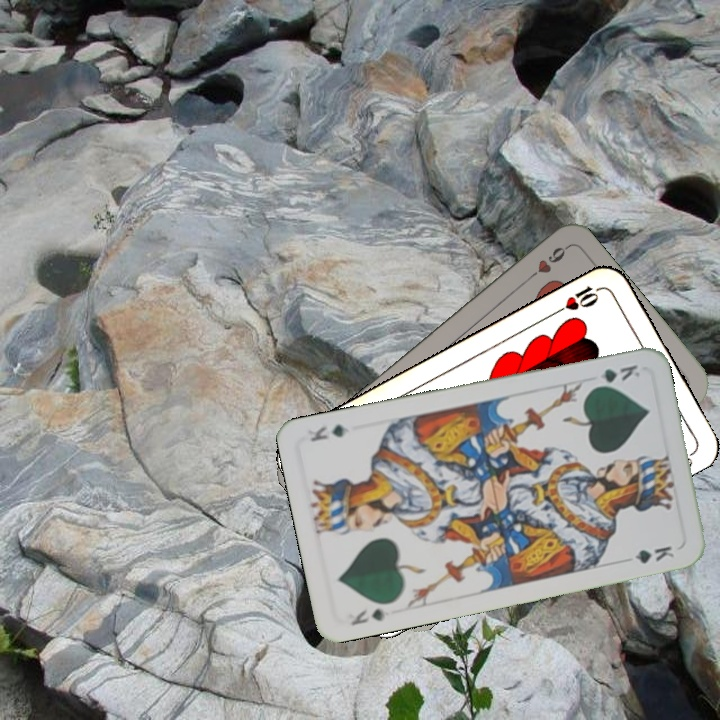GK: (587, 360, 643, 391), (344, 604, 388, 628)
H10: (551, 282, 606, 317)
H9: (521, 242, 571, 285)
